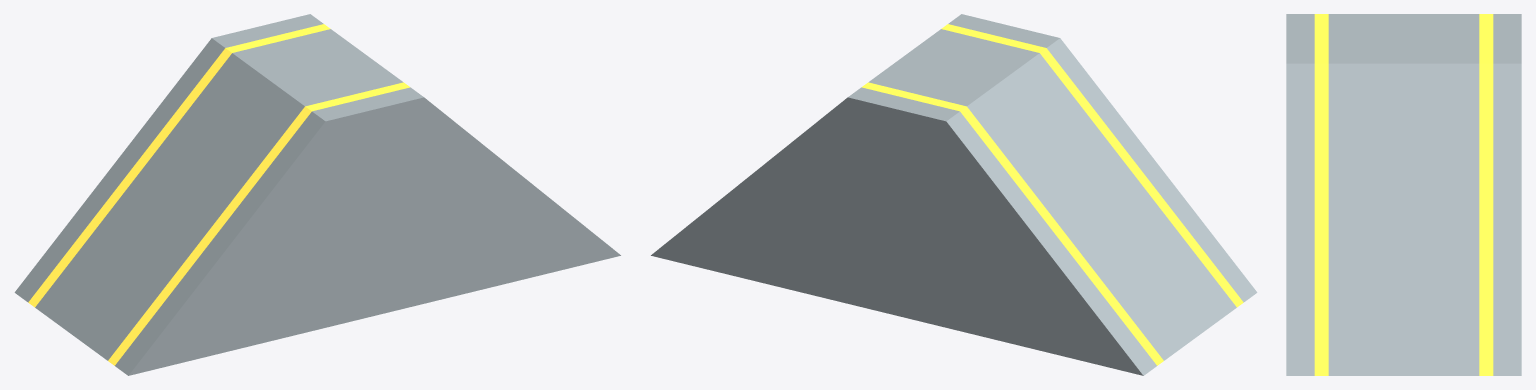
Rendered from SM_Trapezoid_v0.fbx.
The picture shows the model from 3 angles, left to right: view 1: azimuth 30°, elevation 25°; view 2: azimuth 150°, elevation 25°; view 3: azimuth 270°, elevation 25°; orthographic projection. The views are drawn at different scales.
Parts seen in each view (by area): view 1: SM_Trapezoid_v0; view 2: SM_Trapezoid_v0; view 3: SM_Trapezoid_v0.
Part boxes in pixels (bbox=[...]): SM_Trapezoid_v0: bbox=[14, 14, 620, 375]; SM_Trapezoid_v0: bbox=[651, 14, 1257, 375]; SM_Trapezoid_v0: bbox=[1286, 14, 1521, 375].
Size of the model in its own units: 2.5 by 1 by 1.
